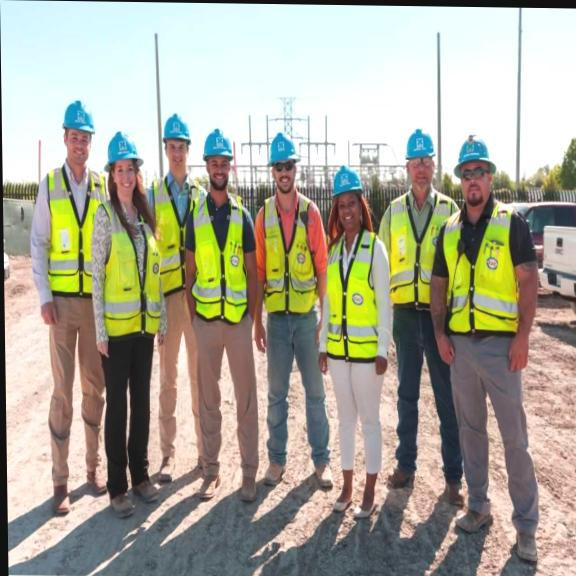safety_vest: (437, 199, 540, 348), (27, 163, 108, 309), (182, 192, 257, 327), (89, 200, 164, 334), (319, 228, 387, 365), (381, 189, 456, 311), (252, 191, 324, 318), (148, 174, 206, 301)
